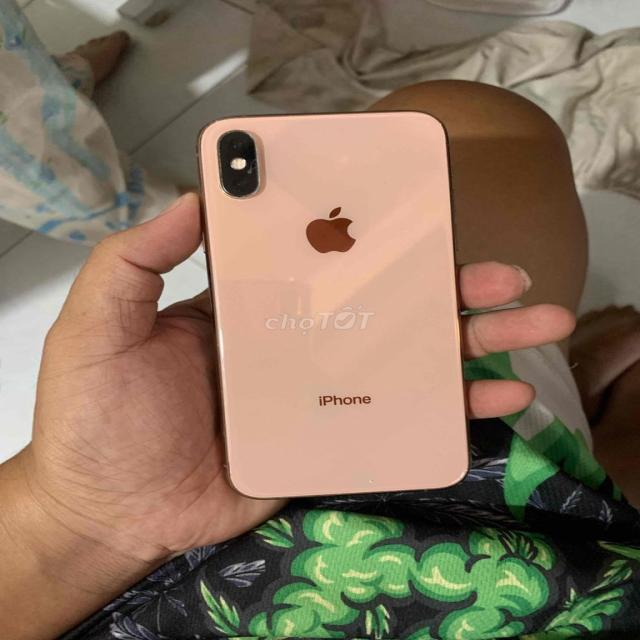physical_damage: (241, 154, 270, 178)
scratch: (351, 467, 390, 491), (205, 147, 228, 187), (207, 126, 243, 142)
